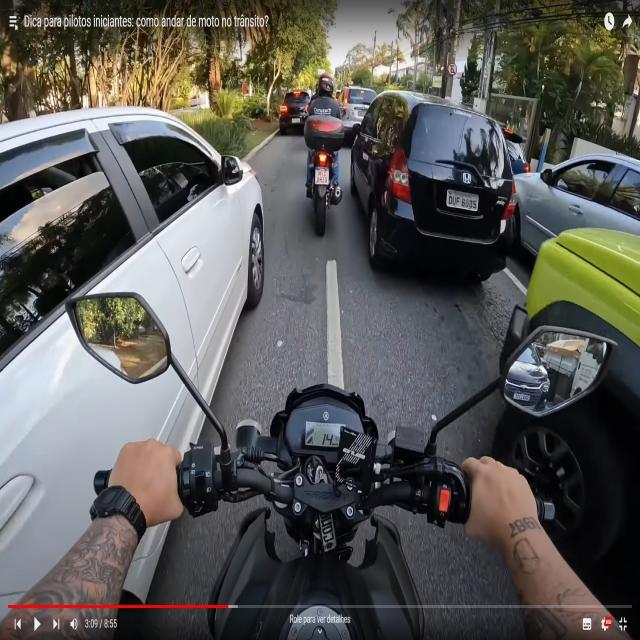placa_moto: (316, 166, 329, 187)
